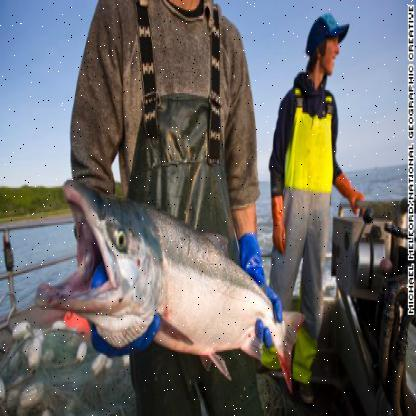fish: (31, 172, 305, 390)
